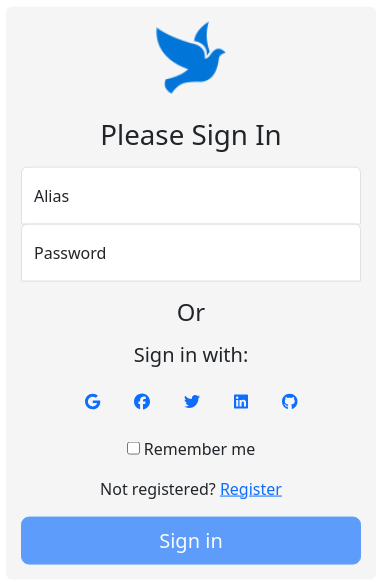
Login Component › enables the sign-in button if both alias and password have fields have text
In the field labelled "Alias": (191, 196) top-left (21, 167), bottom-right (361, 225), type "a"
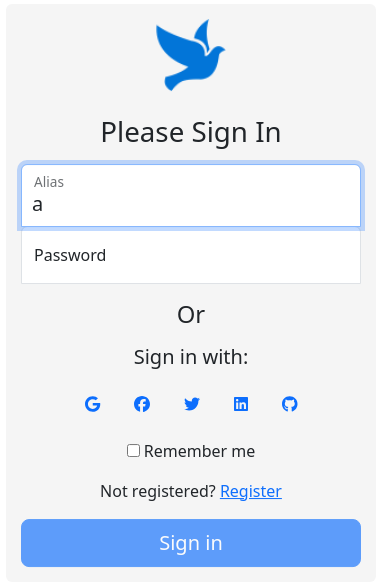
In the password field labelled "Password": (191, 255) top-left (21, 226), bottom-right (361, 284), type "b"
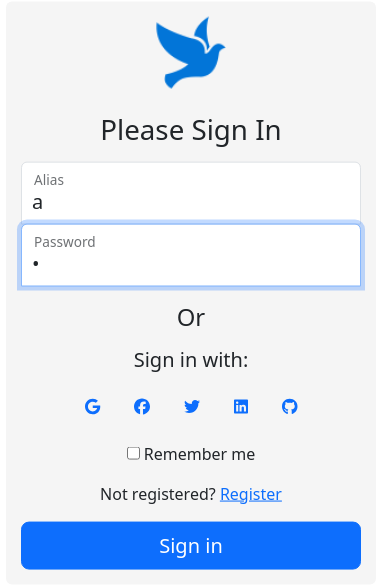
Expected: the button "Sign in" is enabled, top-left (21, 521), bottom-right (361, 569)
